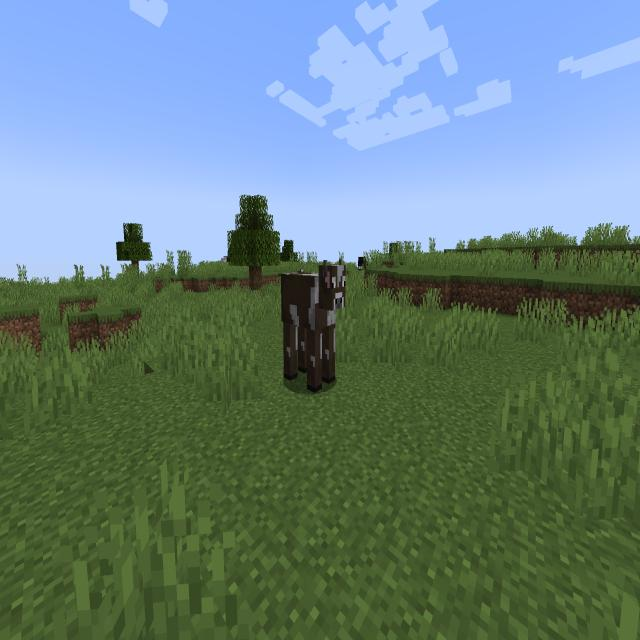cow: (272, 246, 352, 401)
